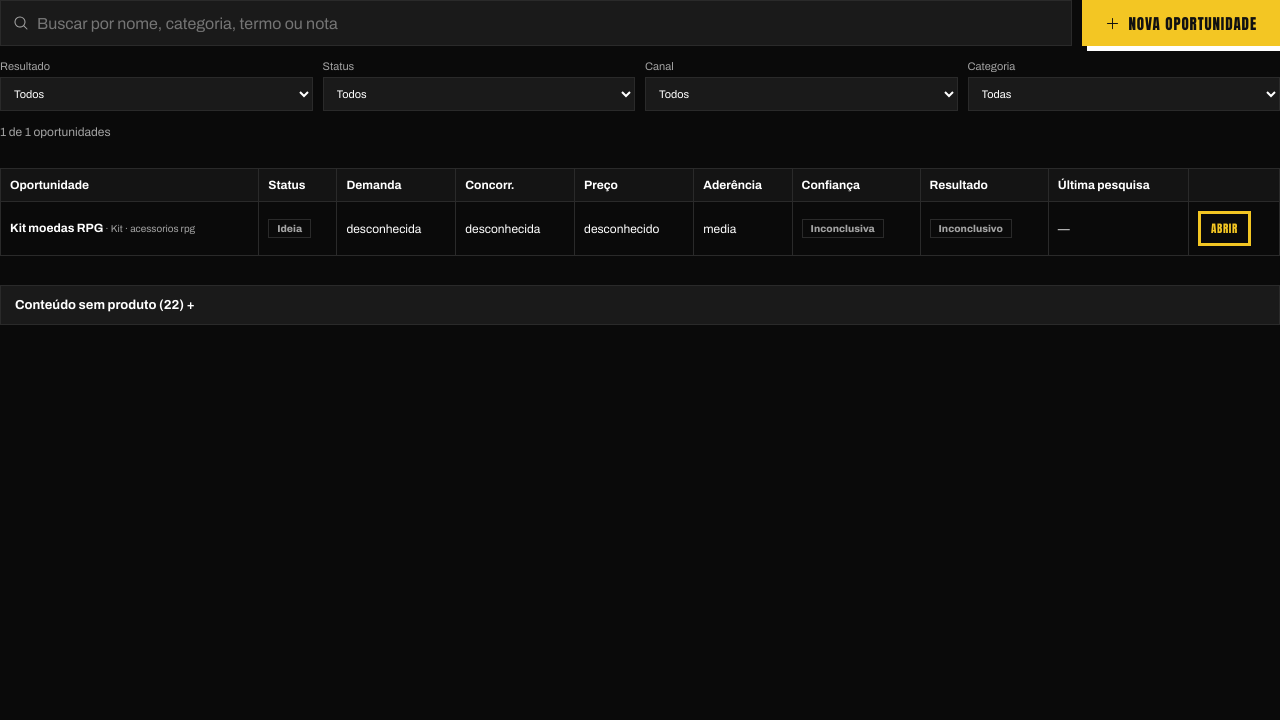
RadarManager — importação do Mercado Livre › REGRESSÃO: sold ausente aparece como "?" e nunca 0
The width and height of the screenshot is (1280, 720).
Click the button "Abrir".
click(1224, 228)  # box [1198, 211, 1251, 246]
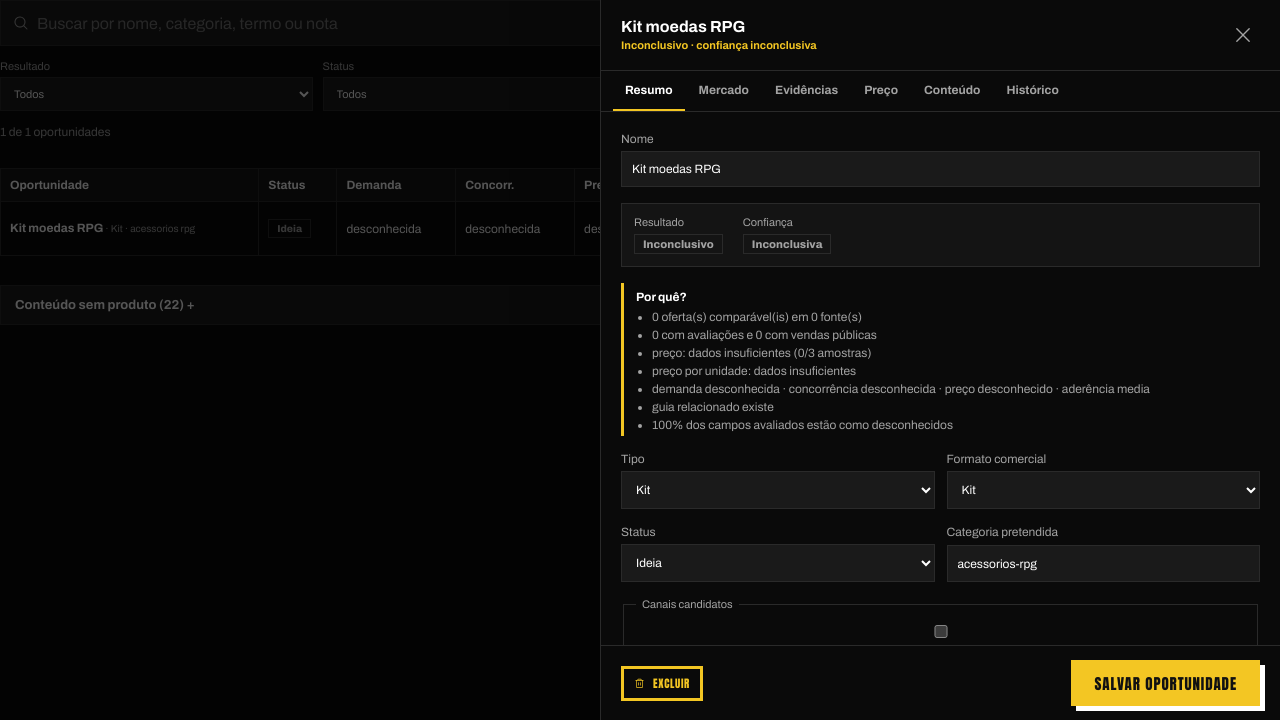
Click the button "Evidências".
click(807, 91)  # box [763, 71, 850, 111]
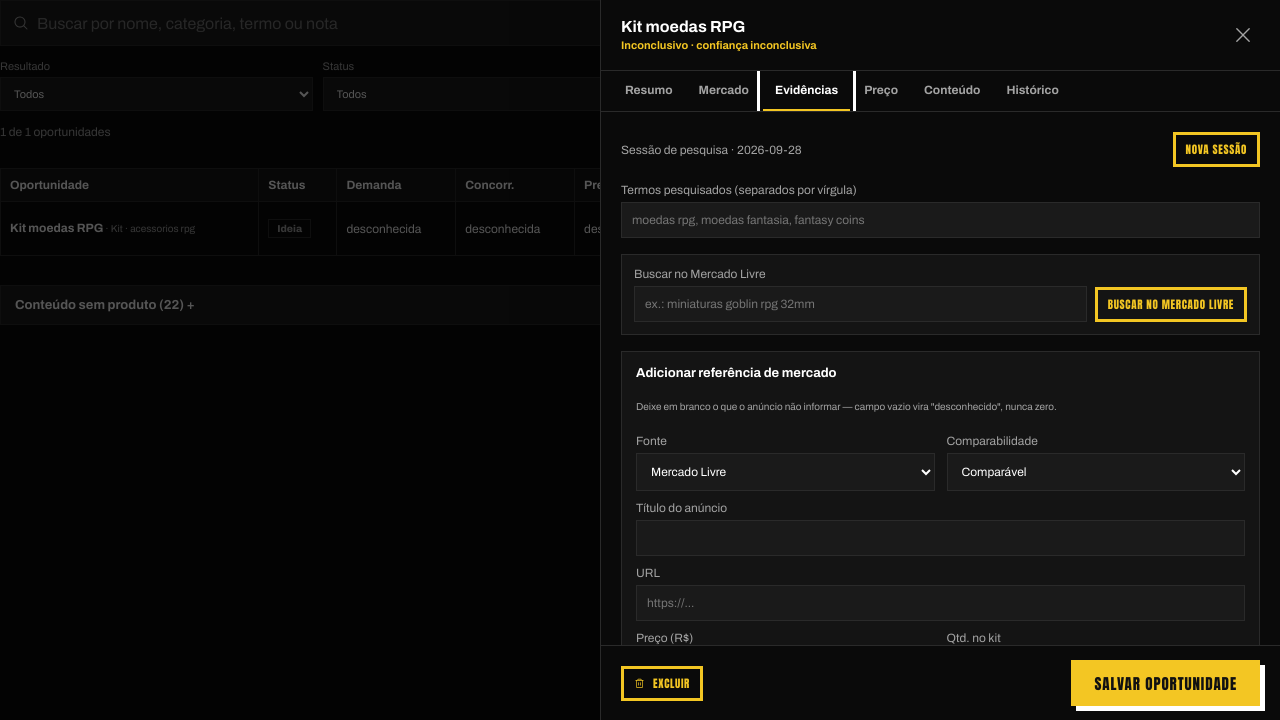
Type "goblin" into the field labelled "Buscar no Mercado Livre".
click(860, 304); type("goblin")  # box [634, 286, 1087, 322]
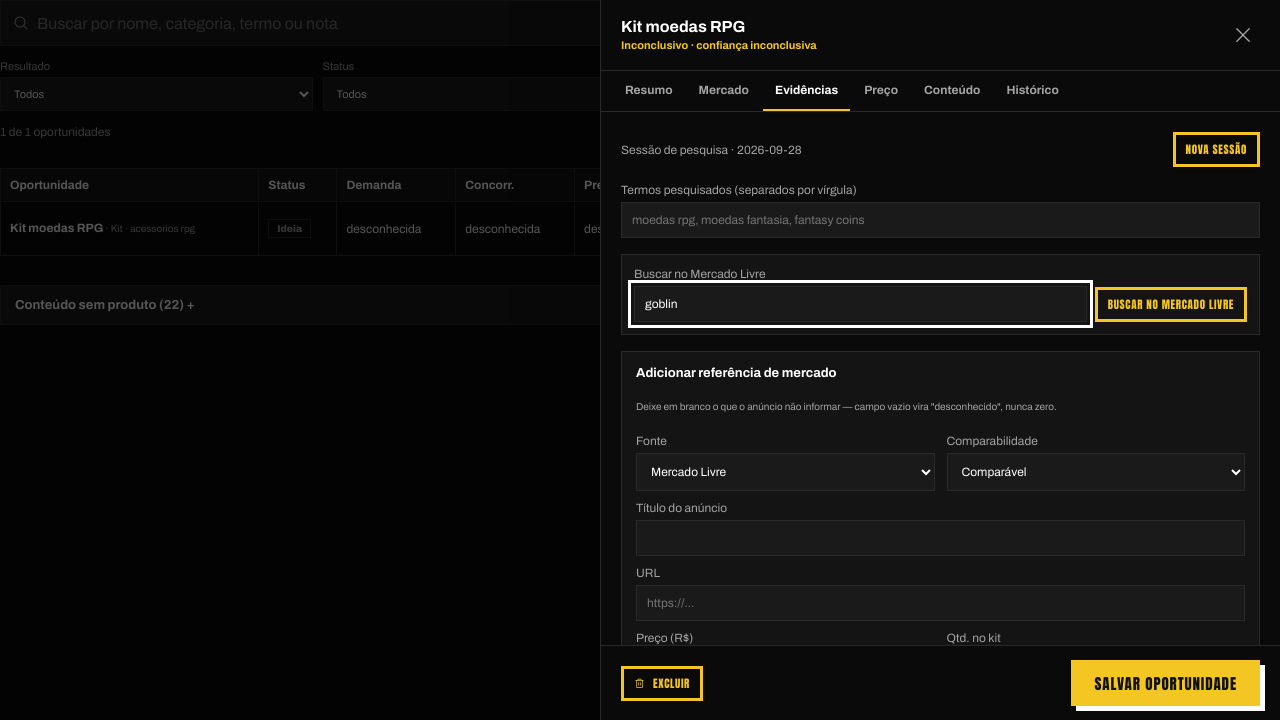
Click the button "Buscar no Mercado Livre".
click(1171, 304)  # box [1095, 287, 1247, 322]
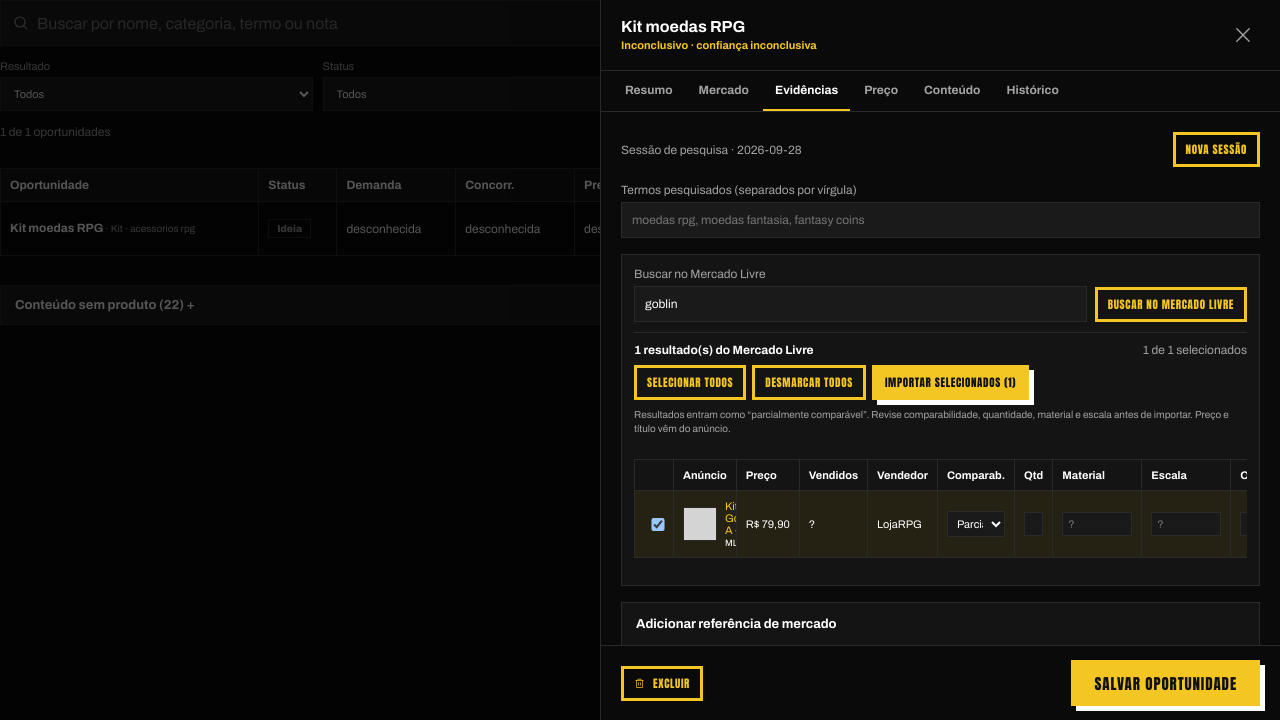
Expected: the text "0" is not shown
Expected: the cell "?" is shown, [799, 490, 868, 558]
